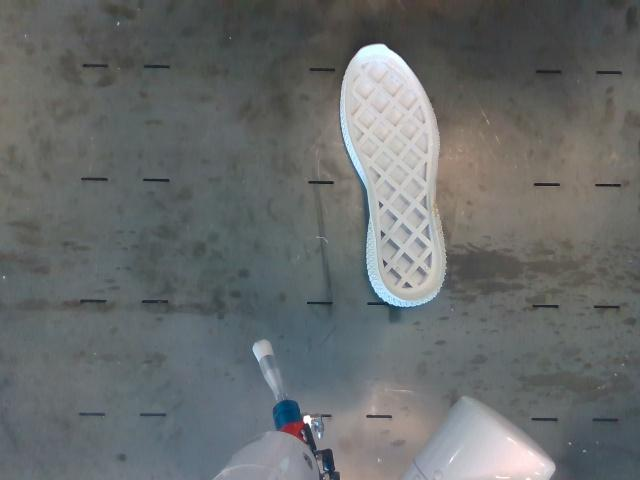shoes: (345, 45, 441, 301)
